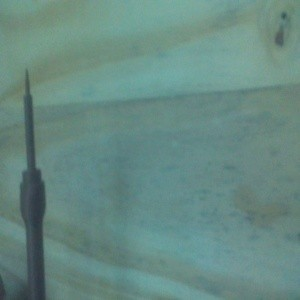solder: (18, 69, 46, 300)
